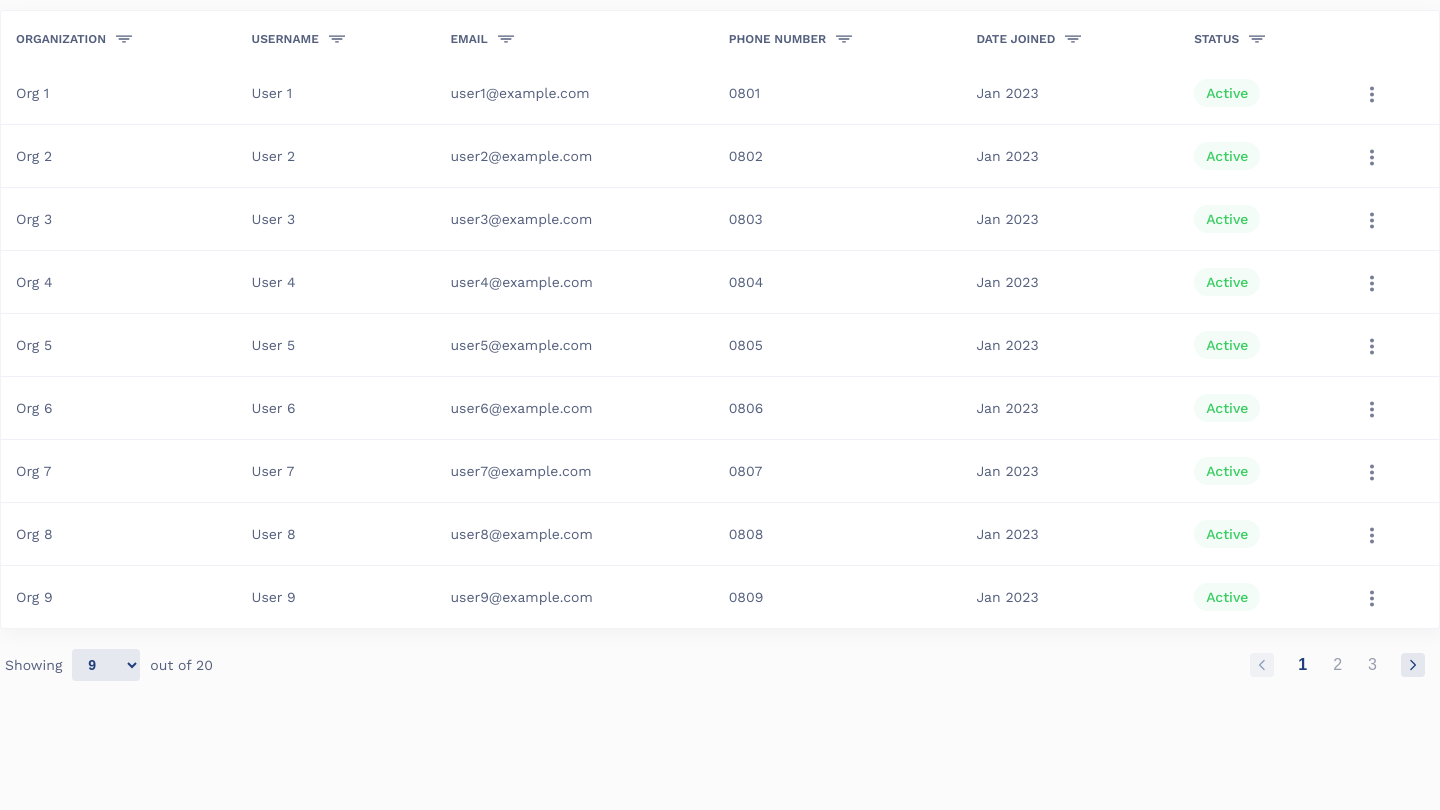
Test: UserTable Component › pagination works correctly
Expected: the text "Org 10" is not shown
Click the button "2" at (1338, 665), box [1321,651,1354,679]
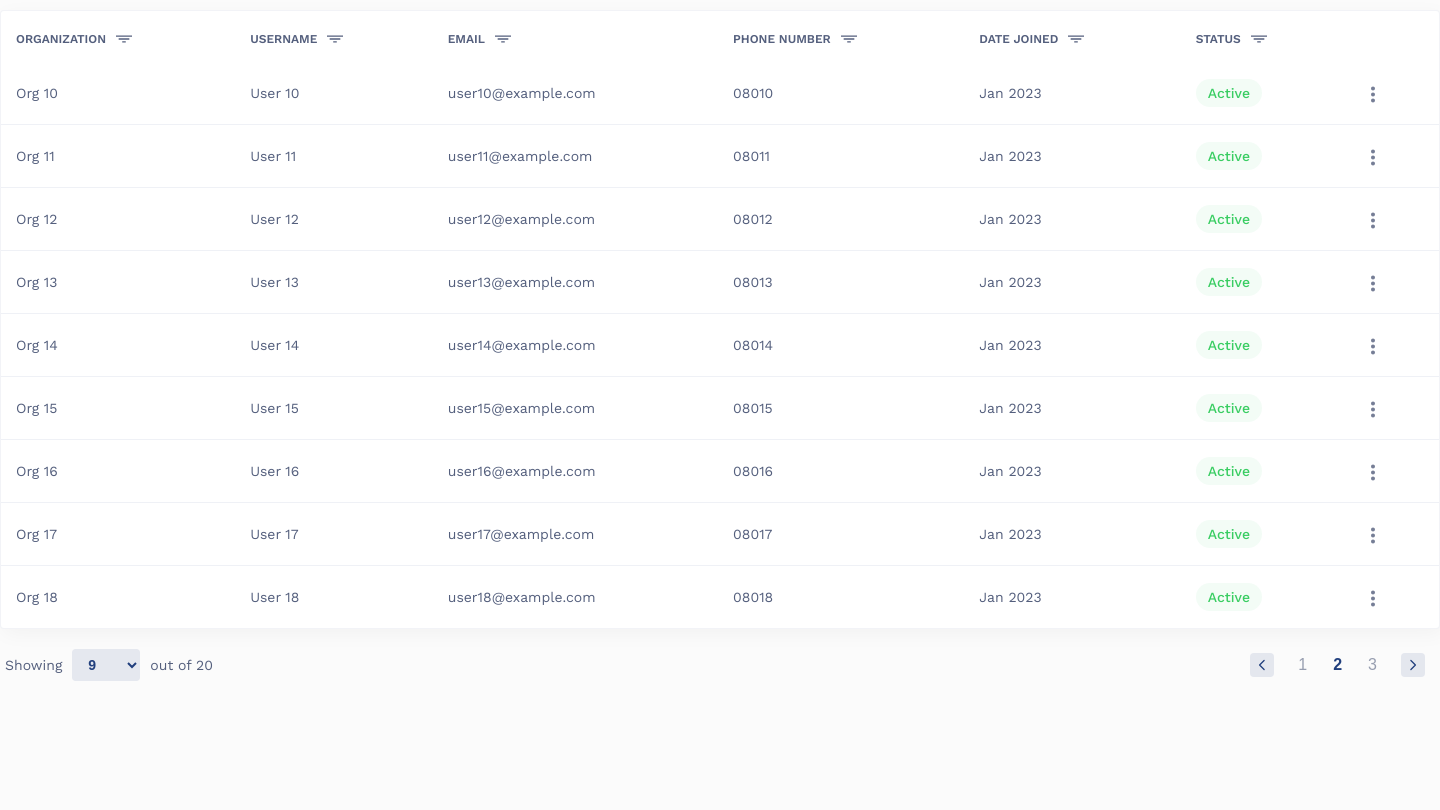
Expected: the text "Org 10" is shown, [1,62,235,124]
